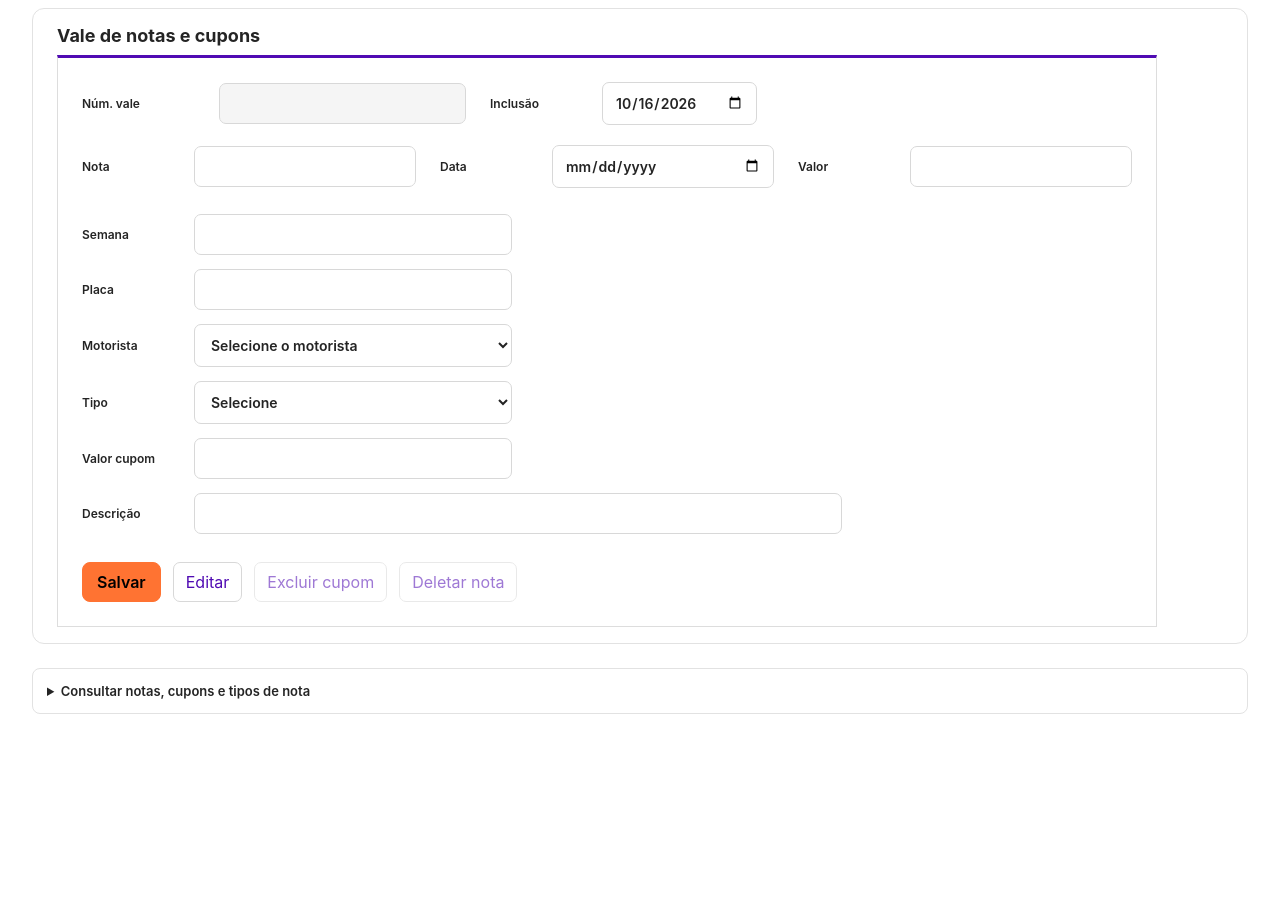
it: bloqueia edição de cupom pago e esconde exclusão de nota para usuário comum
Check: the button "Salvar" is enabled, box x1=82 y1=562 x2=161 y2=602
Check: the button "Deletar nota" is shown, box x1=399 y1=562 x2=518 y2=602
Click the button "Editar" at (208, 582), box x1=173 y1=562 x2=242 y2=602
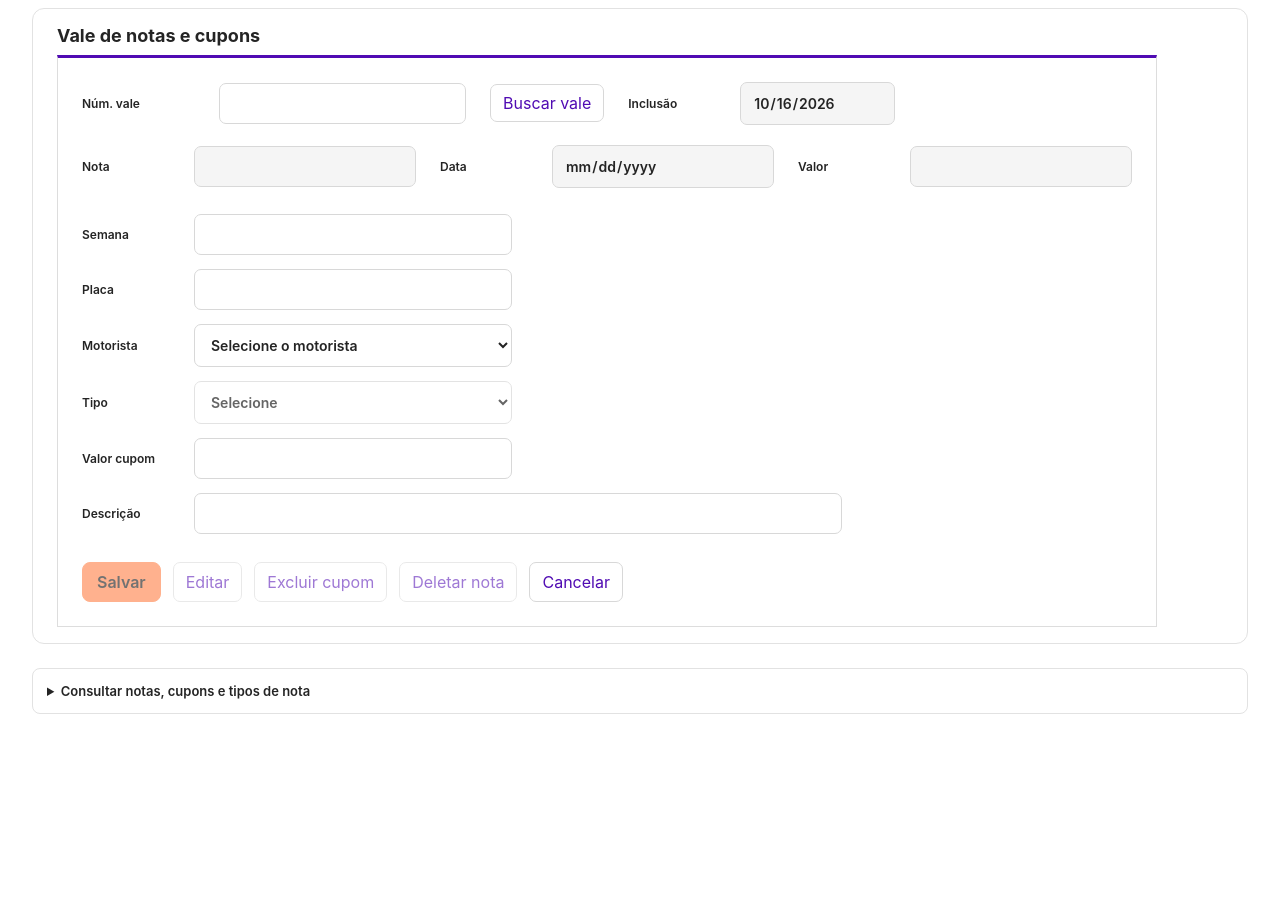
Type "3" into the field named "Número do vale" at (342, 103), box x1=219 y1=83 x2=466 y2=124
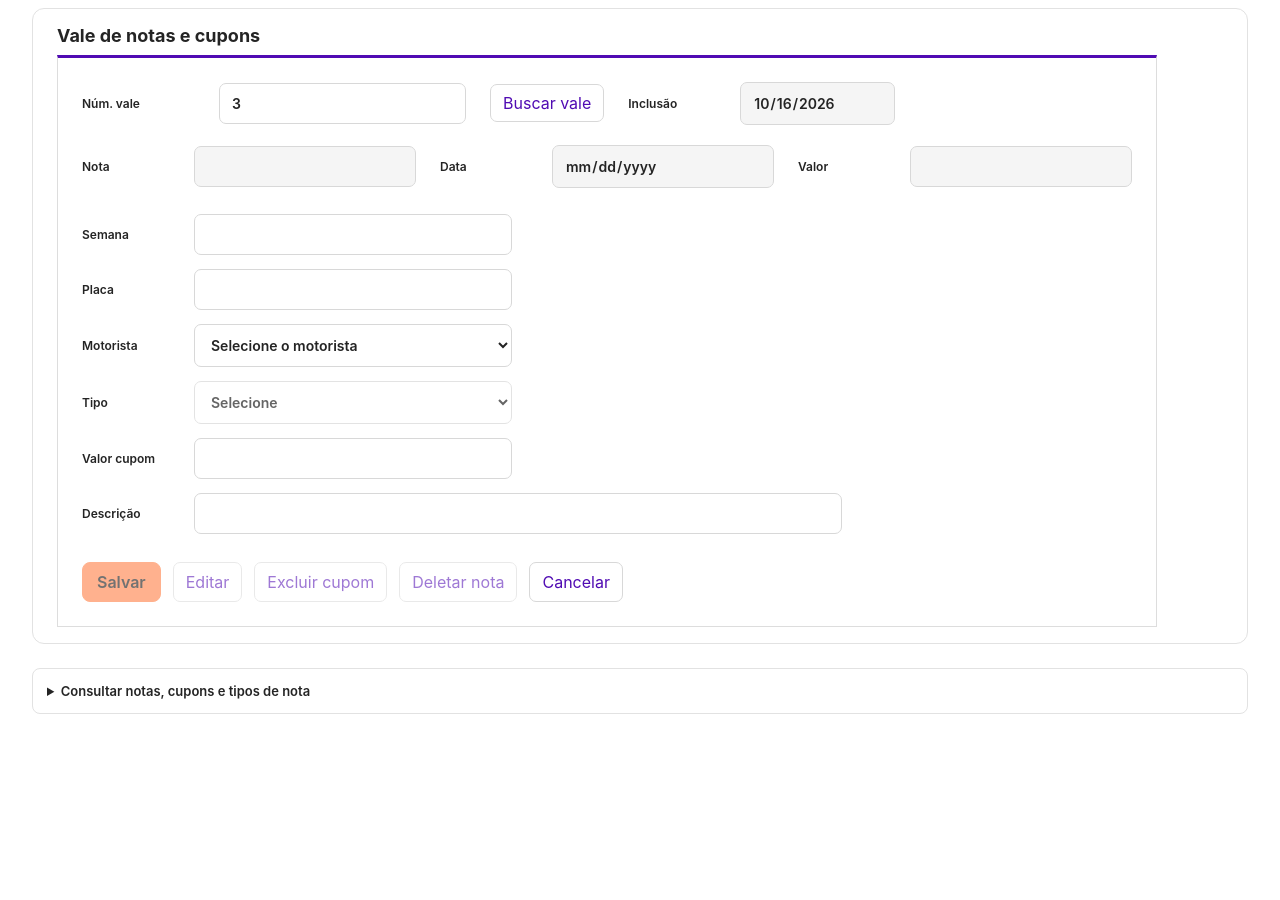
Click the button "Buscar vale" at (547, 103), box x1=490 y1=84 x2=604 y2=122
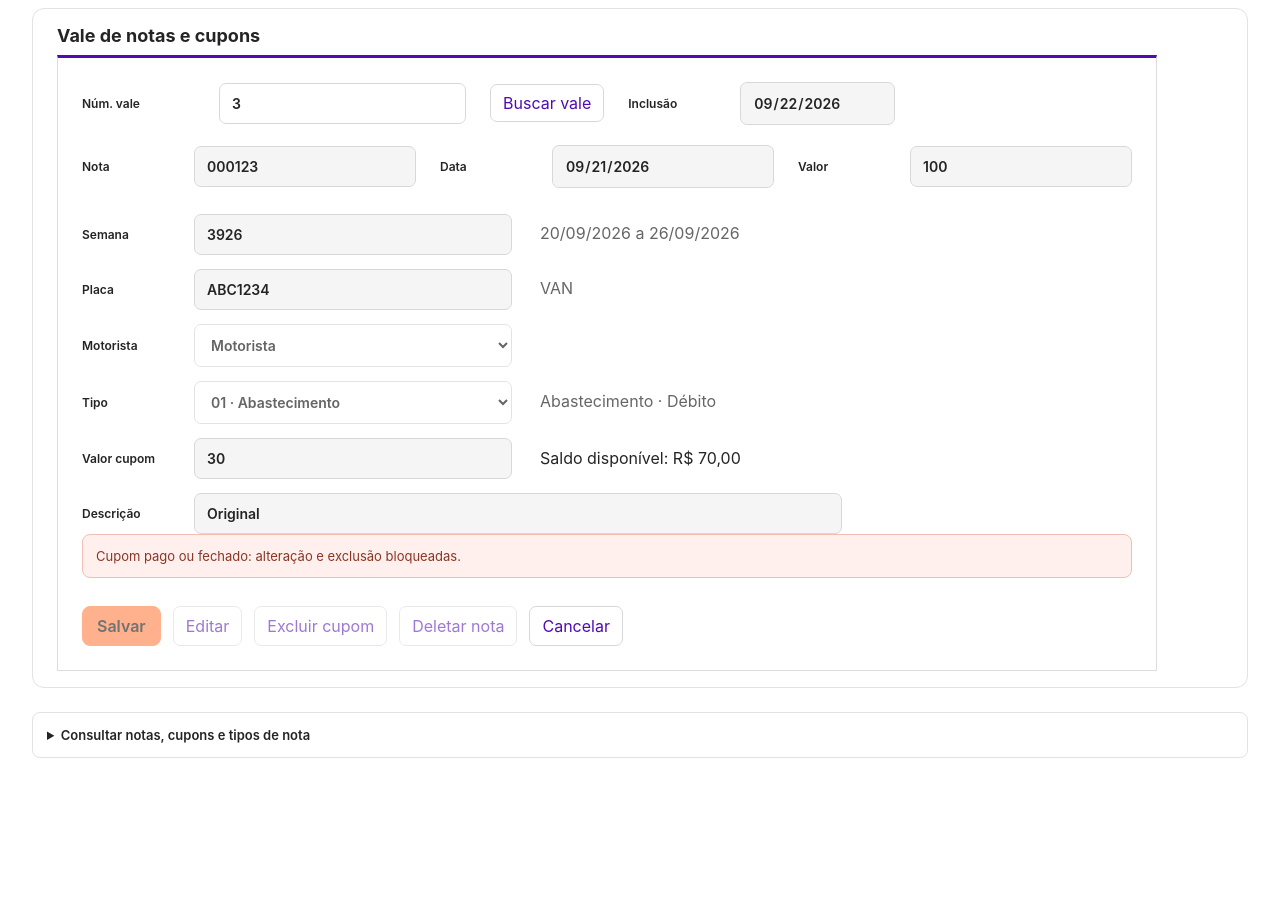
Check: the button "Excluir cupom" is disabled, box x1=254 y1=606 x2=387 y2=646
Check: the button "Salvar" is disabled, box x1=82 y1=606 x2=161 y2=646
Check: the text "Cupom pago ou fechado: alteração e exclusão bloqueadas." is shown, box x1=82 y1=534 x2=1132 y2=578
